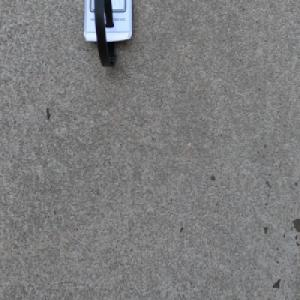LuggageTag: (80, 0, 135, 70)
